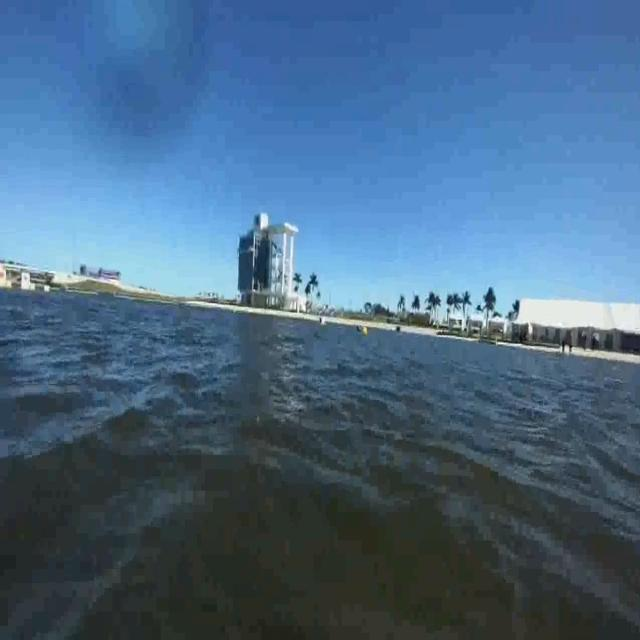yellow-buoy: (361, 325, 368, 337)
